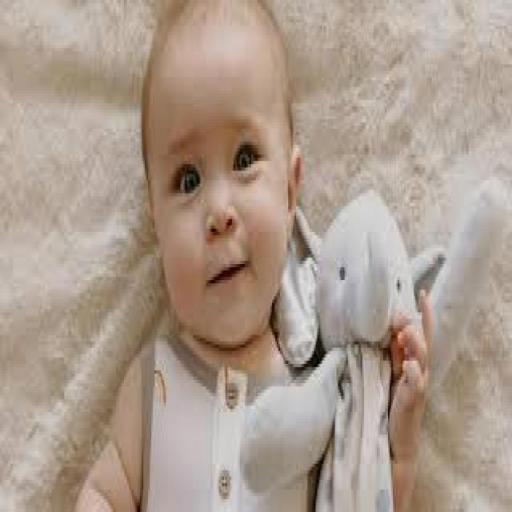baby: (78, 0, 326, 511)
